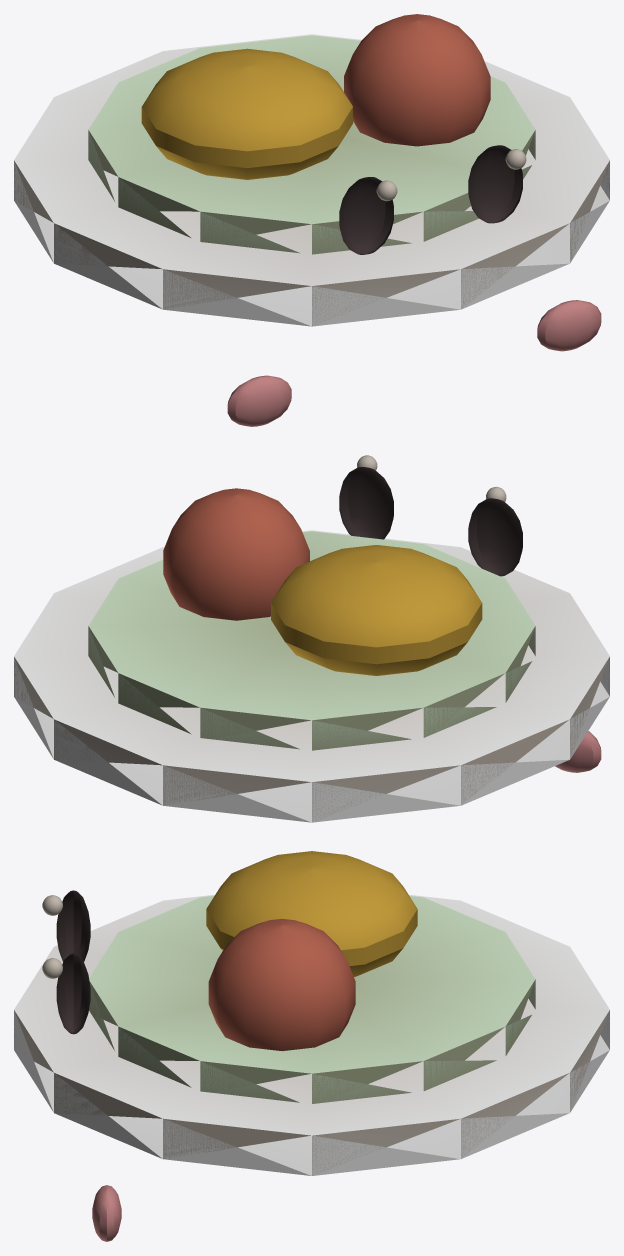
3 views of the same model, one above another, from view 1: azimuth 30°, elevation 25°; view 2: azimuth 150°, elevation 25°; view 3: azimuth 270°, elevation 25° (orthographic).
Parts seen in each view (by area): view 1: pet_pd112b166; view 2: pet_pd112b166; view 3: pet_pd112b166.
Part boxes in pixels (bbox=[...]): pet_pd112b166: bbox=[14, 14, 609, 426]; pet_pd112b166: bbox=[14, 455, 609, 822]; pet_pd112b166: bbox=[14, 851, 609, 1241].
Size of the model in its own units: 0.4 by 0.2076 by 0.4.
